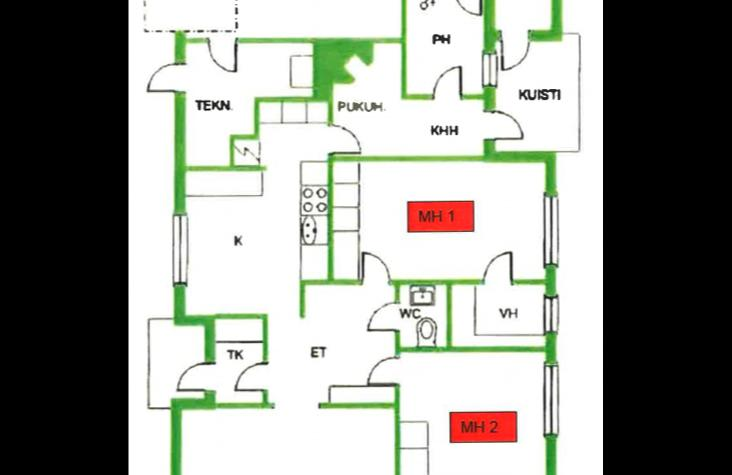door: (498, 27, 532, 71), (146, 59, 186, 95), (366, 348, 402, 386), (360, 244, 392, 286), (480, 249, 516, 285), (366, 298, 400, 334), (206, 35, 240, 71), (232, 358, 268, 392), (176, 362, 216, 392), (327, 120, 363, 153), (489, 108, 524, 140), (451, 0, 483, 19)
window: (170, 208, 190, 288), (542, 357, 560, 440), (543, 188, 560, 268), (543, 286, 558, 338), (478, 49, 497, 88)
